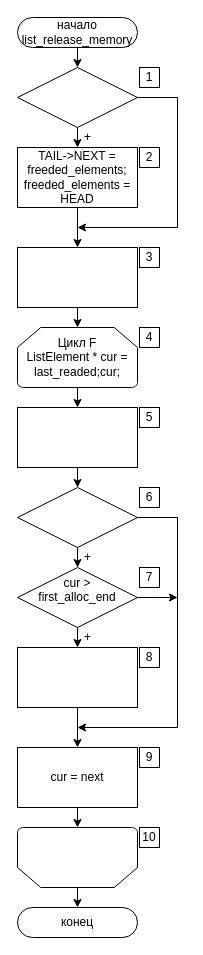
Image size: 203x955. Some labels were removed from this diagram. Here are the shapes that lost their labels. From the top down, the centre of each, then its label:
point 77,97: TAIL
point 77,277: last_readed->NEXT = freeded_elements
point 77,437: ListElement * next = cur->NEXT
point 77,517: cur <= first_alloc_begin
point 77,677: free(cur)
point 77,857: Цикл F
